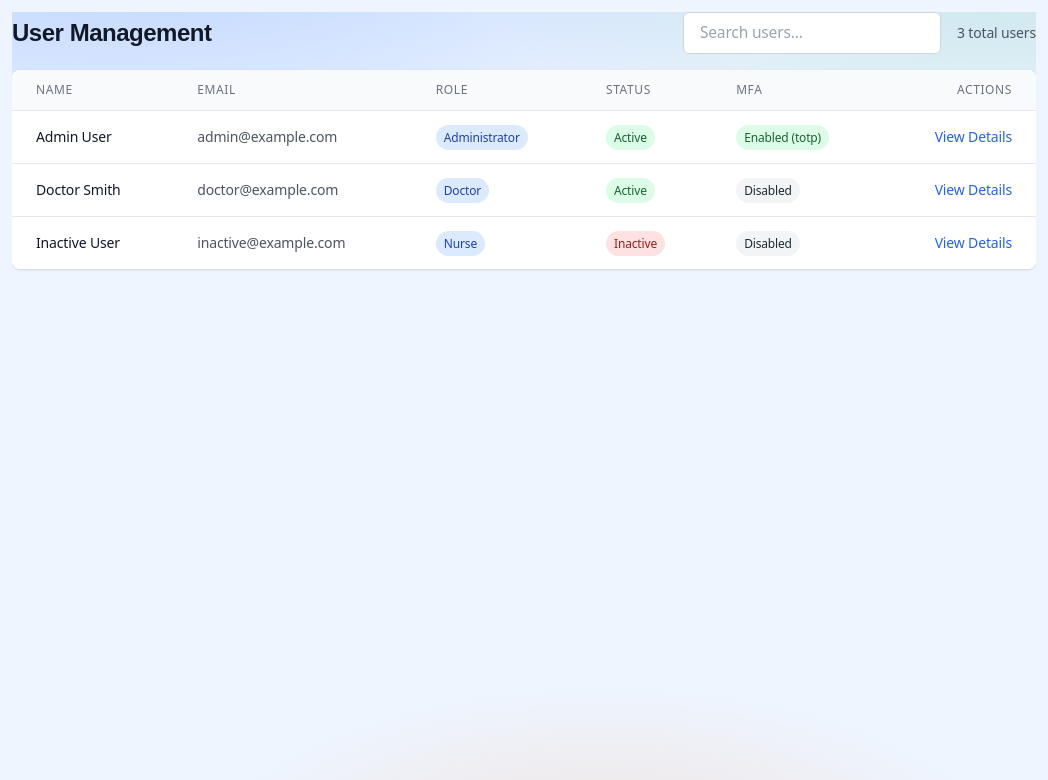
Test: UserList › filters users by search term
Expected: the text "Admin User" is shown, [12,110,173,163]
Type "doctor" into the field with placeholder "Search users...". click: [812, 33]
box: [683,12,941,54]
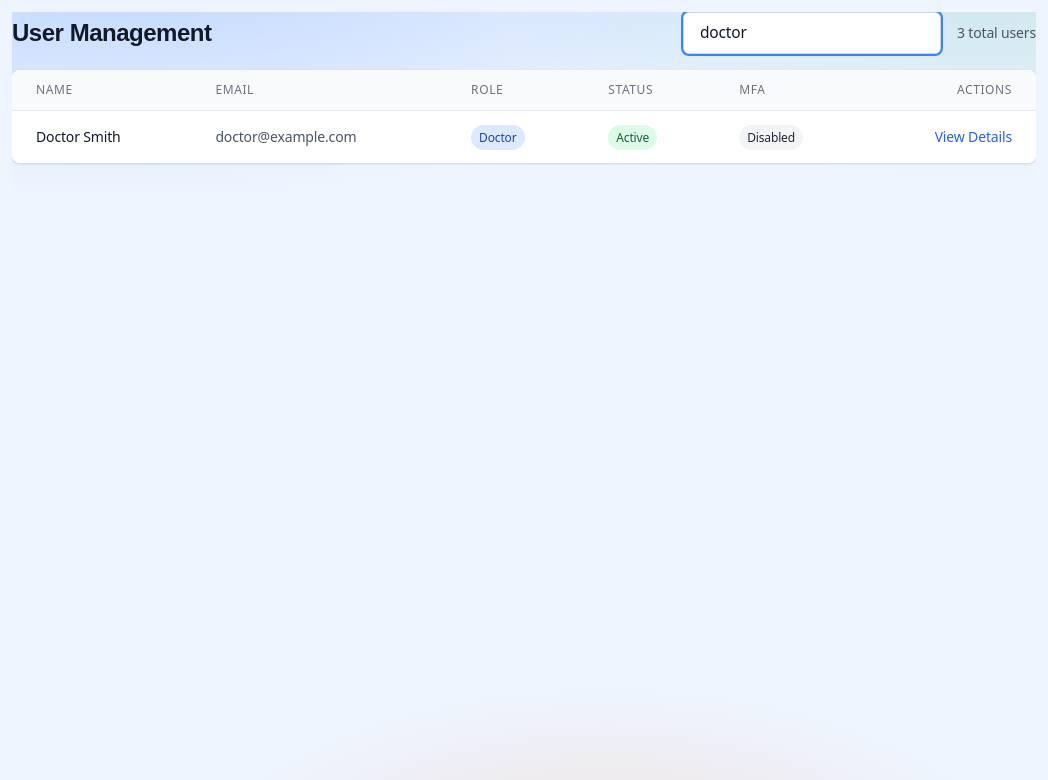
Expected: the text "Doctor Smith" is shown, [12,110,191,162]
Expected: the text "Admin User" is gone
